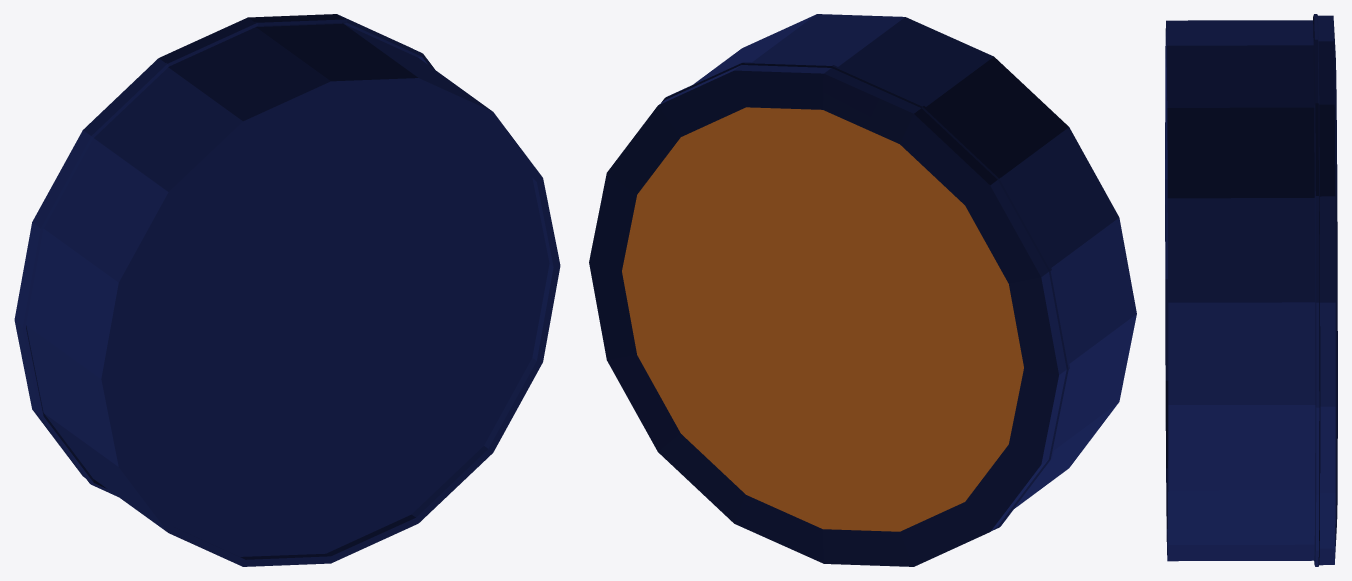
The model's file is Cookie Box 1.fbx.
3 views of the same model, side by side, from view 1: azimuth 30°, elevation 25°; view 2: azimuth 150°, elevation 25°; view 3: azimuth 270°, elevation 25° (orthographic).
Visible parts, largest first — view 1: Node 0; view 2: Node 0; view 3: Node 0.
Part boxes in pixels (x1=…): Node 0: x1=14, y1=14, x2=560, y2=566; Node 0: x1=589, y1=14, x2=1136, y2=566; Node 0: x1=1165, y1=14, x2=1337, y2=566.
Bounding box in the file's own units: 0.0751 × 0.2405 × 0.2405.
